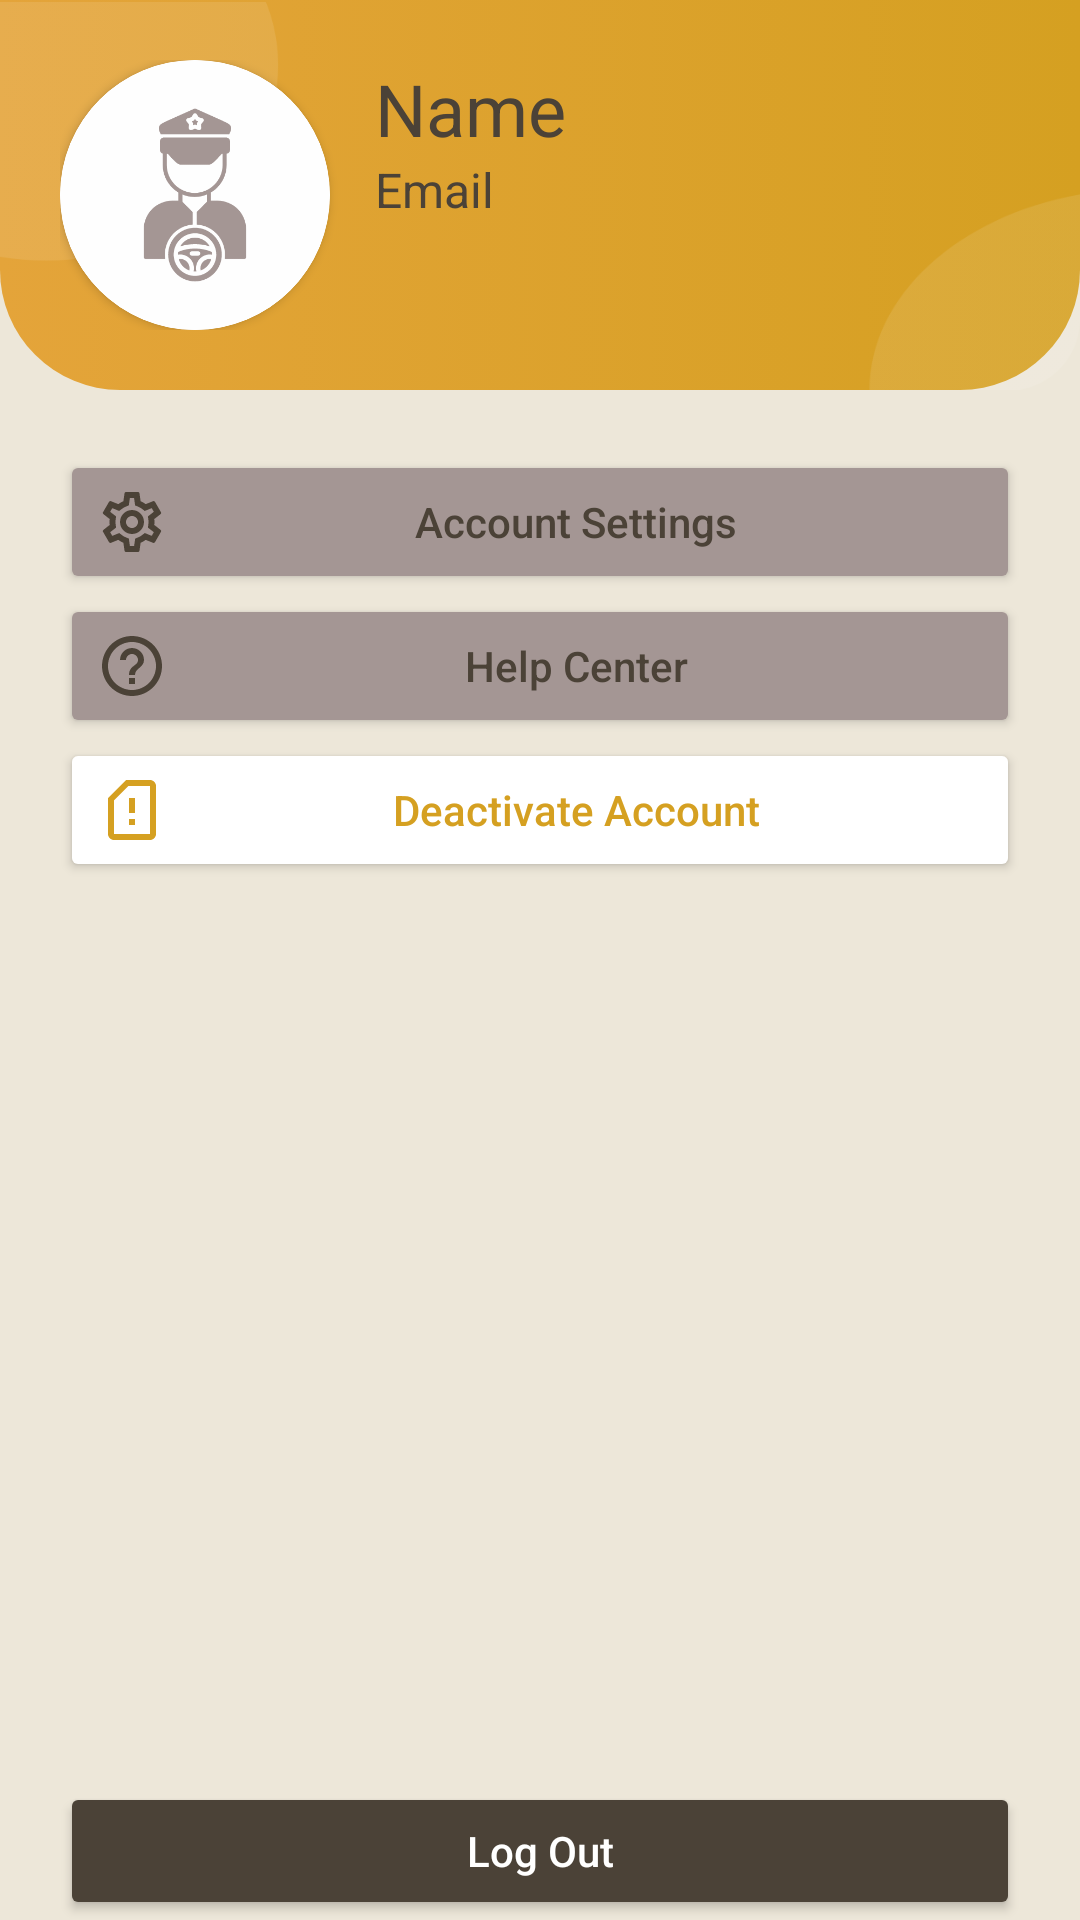

Named icons in this screenshot (1080w x 1920h) and their centers, [x,y]:
driver user: [195,195]
